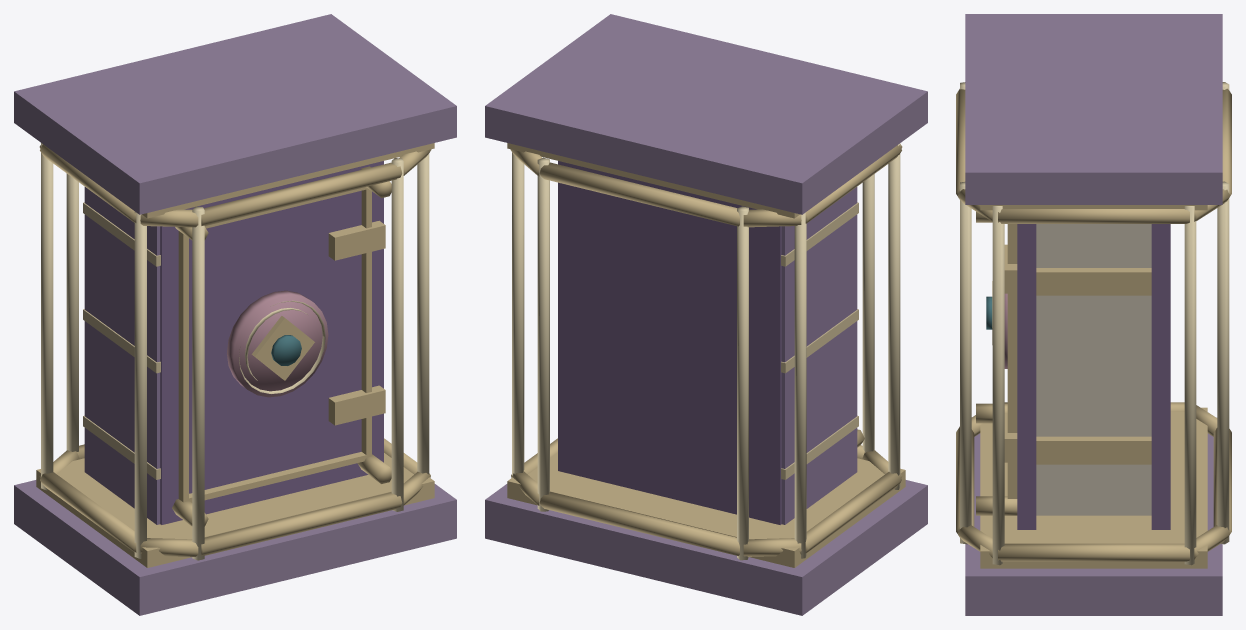
File: ART-23.glb
3 renders of one model, left to right at view 1: azimuth 30°, elevation 25°; view 2: azimuth 150°, elevation 25°; view 3: azimuth 270°, elevation 25°, orthographic. The views are drawn at different scales.
Parts seen in each view (by area): view 1: world; view 2: world; view 3: world.
Part boxes in pixels (left/top/right/bottom): world: left=14, top=14, right=456, bottom=615; world: left=485, top=14, right=927, bottom=615; world: left=956, top=14, right=1231, bottom=615.
Size of the model in its own units: 1.54 by 2 by 1.13.
